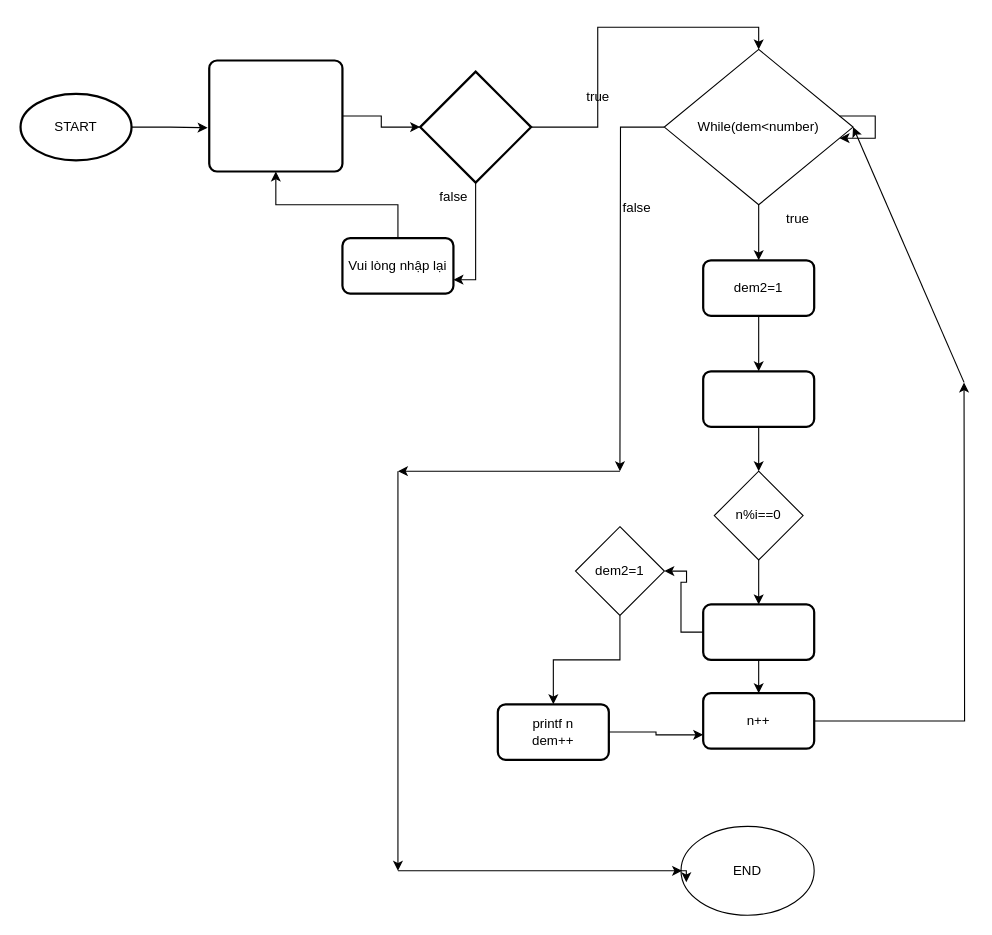
Image size: 992x935. Some labels were removed from this diagram. The centre of each missing label's shape, as x and y in pixels:
"dem2=0" belongs at point 758,631.
"i = 2; i*i <= n; i++" belongs at point 758,398.
"n>0" belongs at point 475,126.
"Nhập number dem =0 n =2 dem2" belongs at point 275,115.
